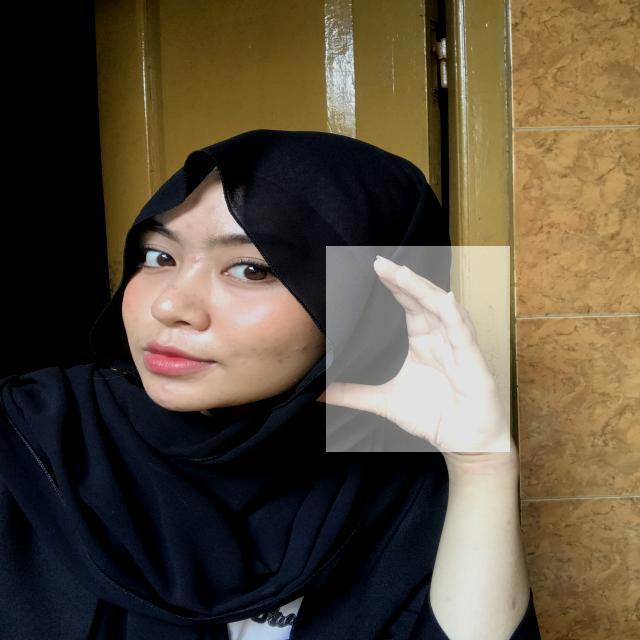mendengar: (326, 246, 510, 452)
